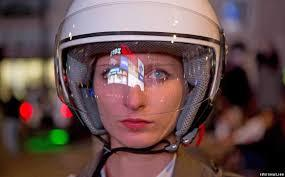helmet: (44, 0, 244, 157)
